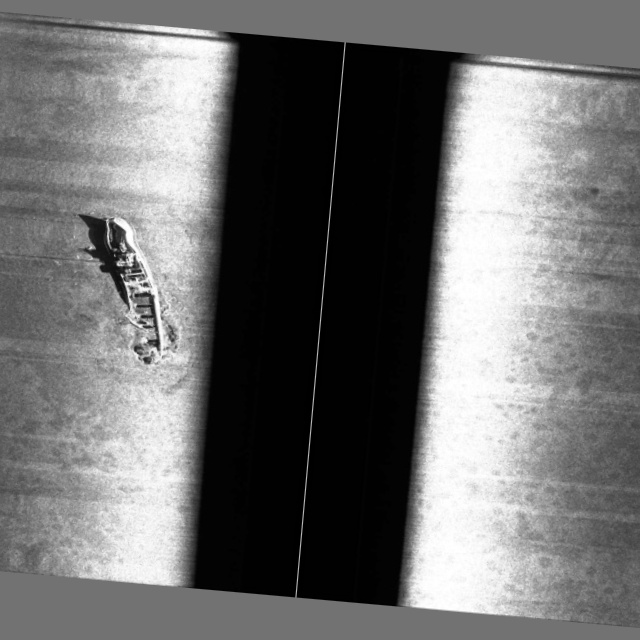Shipwreck: (43, 209, 175, 365)
